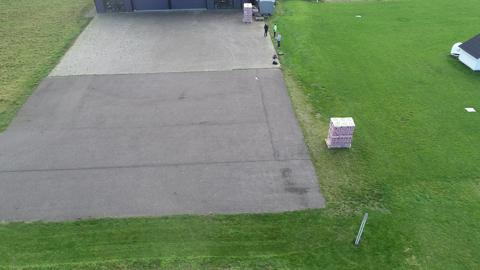RockwoolPallet: (243, 2, 254, 24)
